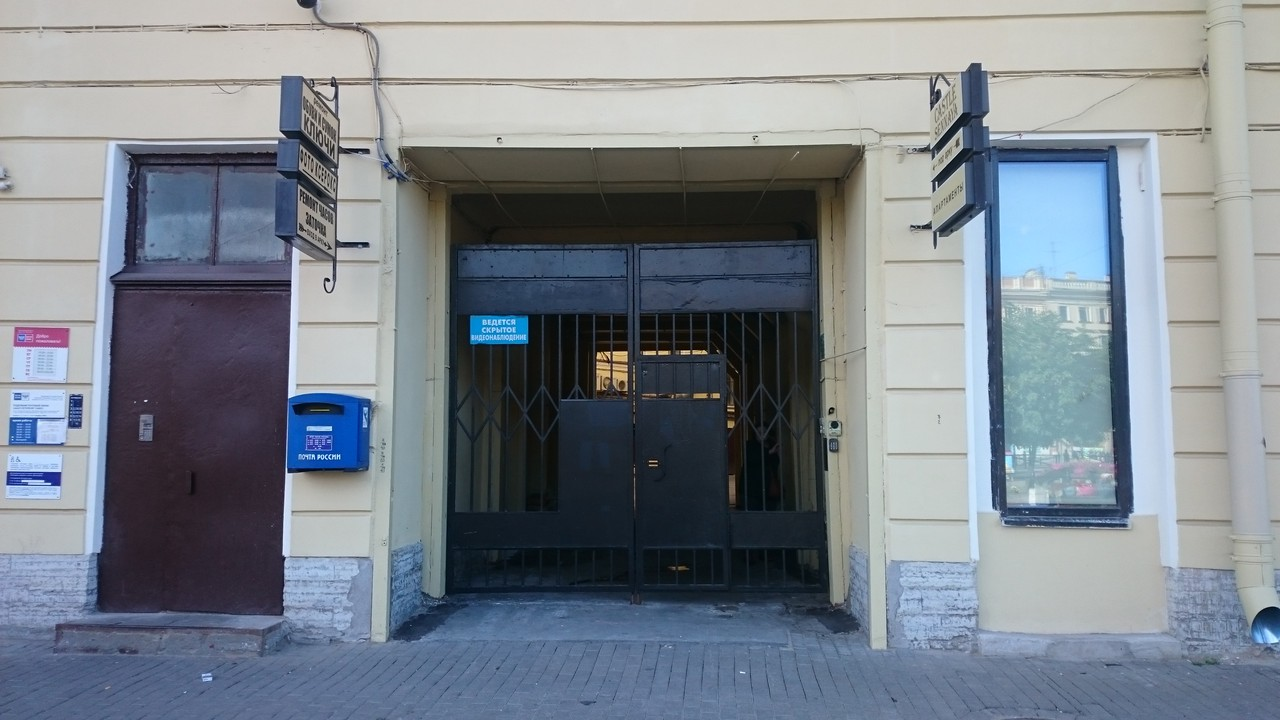arch: (428, 176, 839, 614)
cantilever: (277, 72, 362, 270), (916, 67, 991, 242)
door: (96, 283, 290, 611)
window: (994, 152, 1122, 515), (127, 162, 279, 266)
